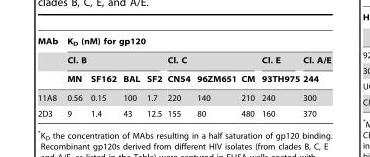table: (37, 36, 330, 117)
table column: (192, 36, 238, 117), (257, 36, 300, 117), (85, 36, 119, 117), (300, 36, 330, 117), (164, 36, 192, 117), (37, 36, 61, 117), (61, 36, 85, 117), (119, 36, 142, 117), (142, 36, 164, 117), (238, 36, 257, 117)
table column header: (37, 36, 330, 88)
table row: (37, 50, 330, 69), (37, 69, 330, 88), (37, 88, 330, 105), (37, 36, 330, 50), (37, 105, 330, 117)
table spanning cell: (61, 36, 330, 50), (61, 50, 164, 69), (164, 50, 257, 69), (257, 50, 300, 88), (37, 36, 61, 88), (300, 50, 330, 88)
